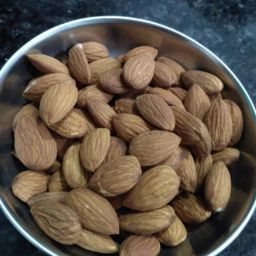Almonds: (44, 38, 243, 256), (48, 105, 239, 254), (16, 49, 161, 230), (11, 45, 244, 146), (7, 96, 116, 256), (87, 90, 213, 207)
